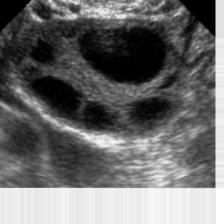pcos: (26, 0, 190, 154)
